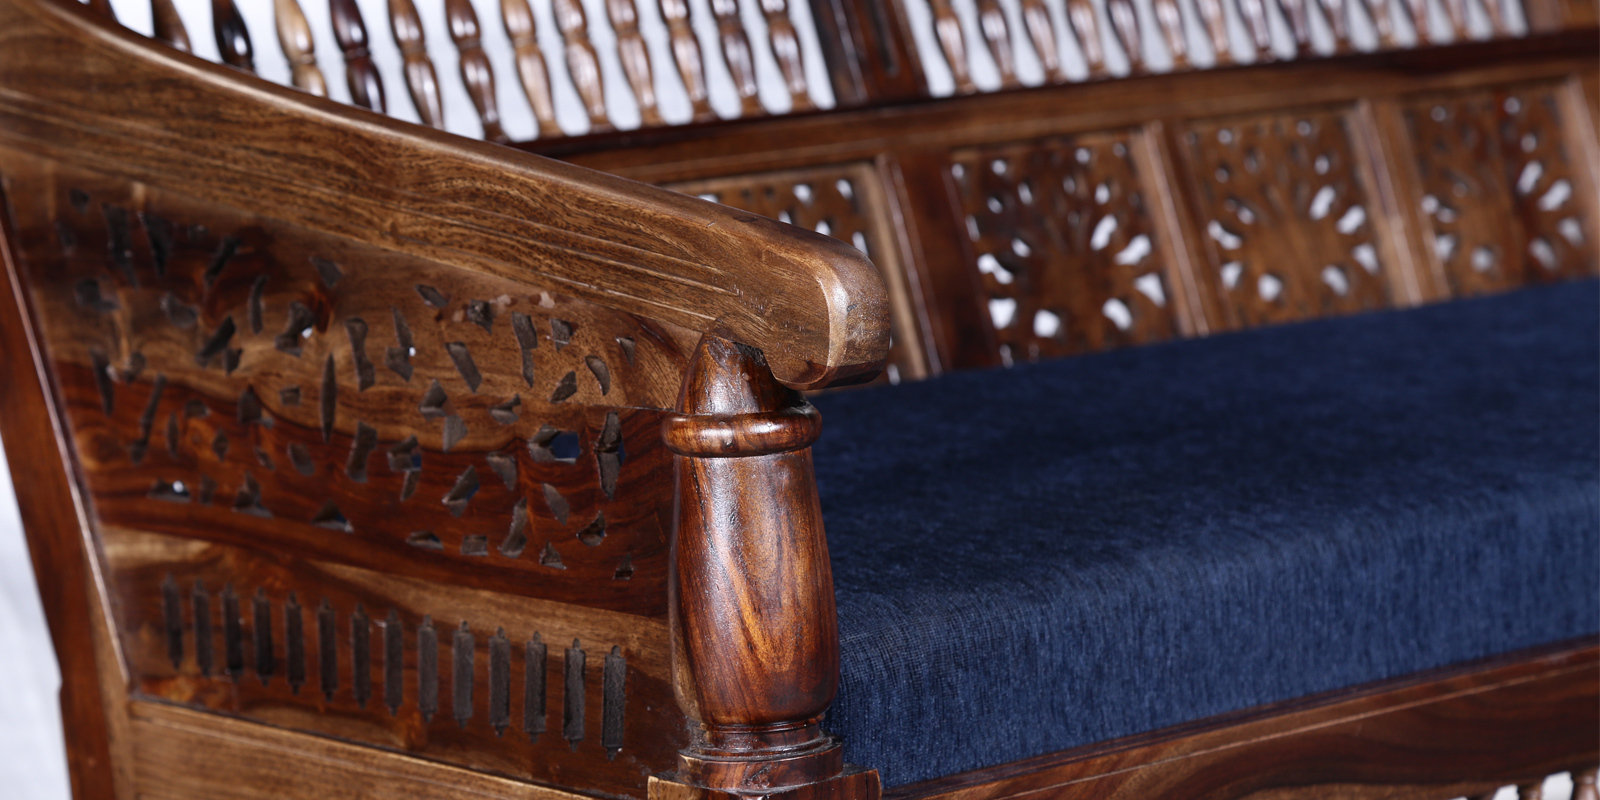Maurya Handcrafted Three Seater Sofa in Provincial Teak Finish by Mudramark: (1, 3, 1594, 800)
